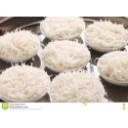idiyappam: (54, 71, 104, 102), (1, 65, 47, 98), (45, 40, 89, 69), (89, 20, 128, 46), (42, 16, 84, 39), (1, 32, 38, 58), (102, 53, 128, 79)
